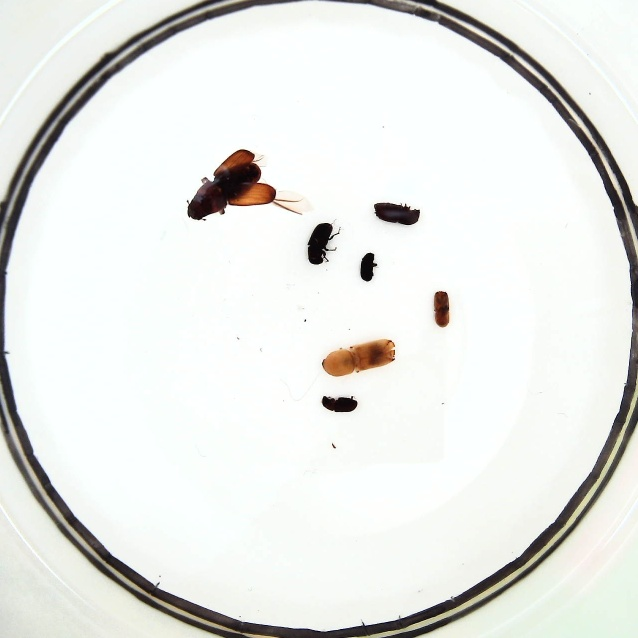acuminatus: (429, 291, 451, 325)
armandi: (309, 223, 332, 267)
boerner: (325, 339, 399, 378)
coleoptera: (322, 389, 357, 413), (359, 252, 376, 278)
leconte: (188, 148, 278, 220)
linnaeus: (371, 198, 421, 226)
